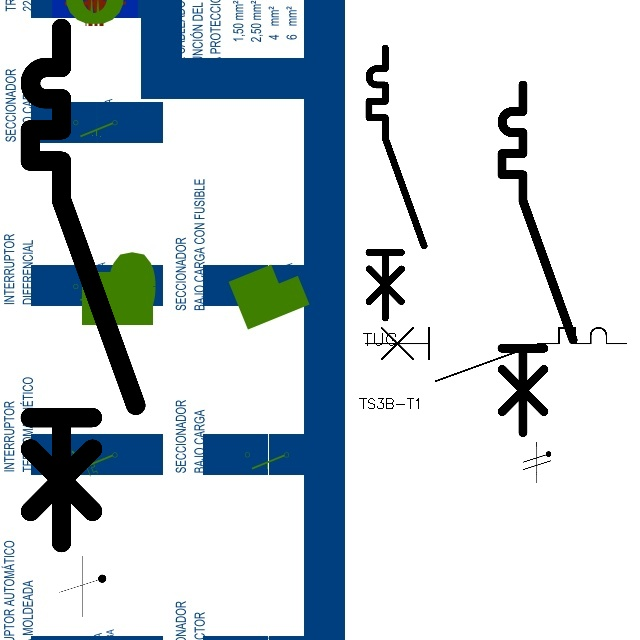interruptor_termomagnetico: (17, 15, 149, 556), (493, 76, 582, 442), (362, 41, 431, 325), (359, 321, 633, 388)
